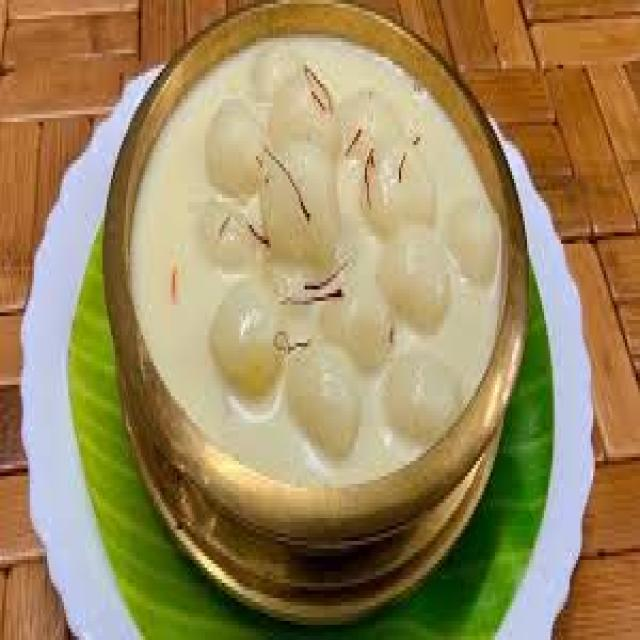paal kolukattai: (115, 36, 520, 493)
